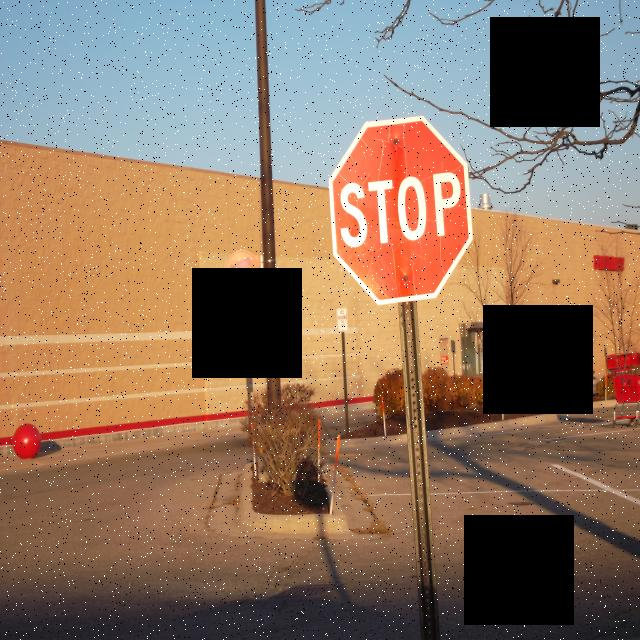regulatory: (336, 307, 348, 332), (580, 308, 590, 327)
stop: (327, 115, 476, 304)
